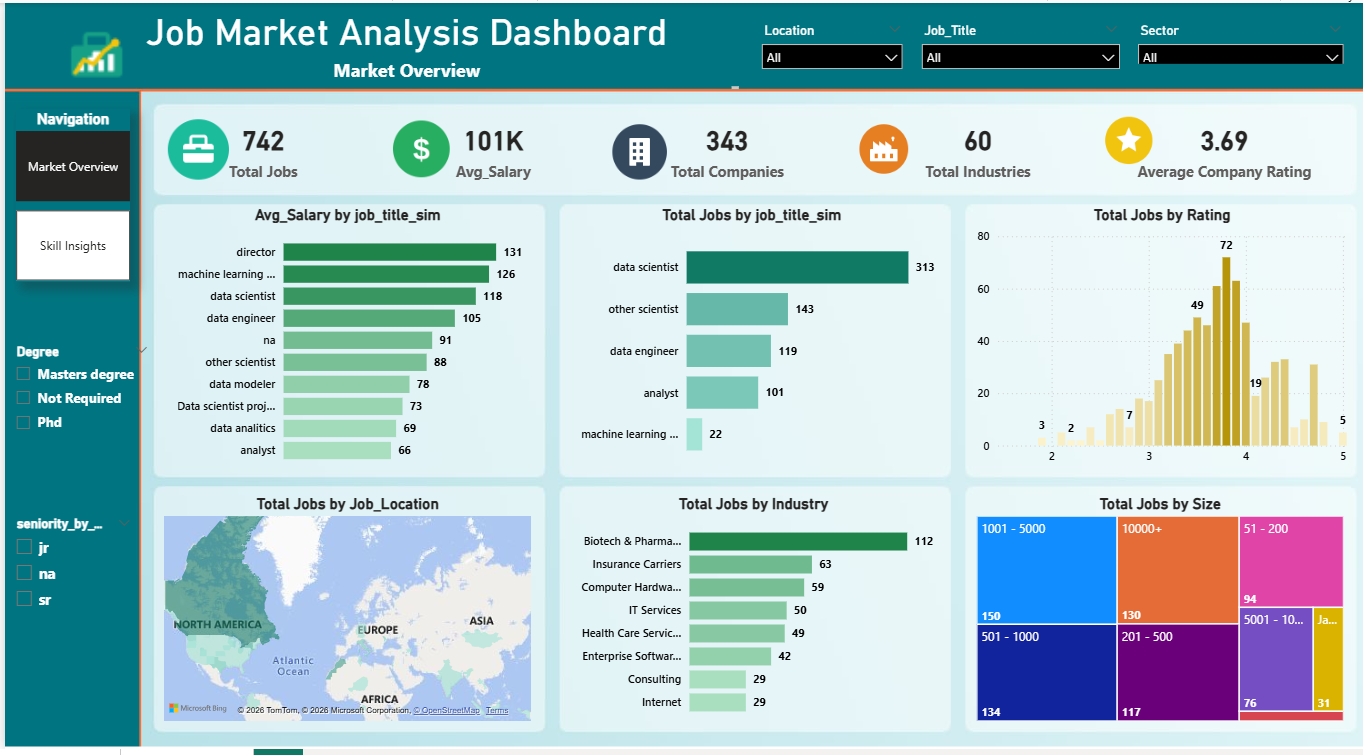

What the dashboard file says about the page in this screenshot:
{"tool":"powerbi","page":{"name":"Market Overview","canvas":[1500,820],"ordinal":0},"visuals":[{"type":"clusteredBarChart","fields":{"Category":["cleaned_Market.job_title_sim"],"Y":["cleaned_Market.Avg_Salary"]},"box":[171,223.2,413,294.1],"z":0},{"type":"clusteredBarChart","fields":{"Y":["cleaned_Market.Total Jobs"],"Category":["cleaned_Market.job_title_sim"]},"box":[611.1,223.2,419.2,294.1],"z":1000},{"type":"clusteredColumnChart","fields":{"Y":["cleaned_Market.Total Jobs"],"Category":["cleaned_Market.Rating"]},"box":[1063.7,223.2,417.1,294.1],"z":2000},{"type":"filledMap","fields":{"Category":["cleaned_Market.Job_Location"]},"box":[171,540.2,413,254.5],"z":3000},{"type":"barChart","fields":{"Category":["cleaned_Market.Industry"],"Y":["cleaned_Market.Total Jobs"]},"box":[615.3,540.2,415.1,254.5],"z":4000},{"type":"treemap","fields":{"Group":["cleaned_Market.Size"],"Values":["cleaned_Market.Total Jobs"]},"box":[1063.7,540.2,413,254.5],"z":5000},{"type":"slicer","fields":{"Values":["cleaned_Market.Job_Title"]},"box":[997,16.7,237.8,66.7],"z":6000},{"type":"slicer","fields":{"Values":["cleaned_Market.Sector"]},"box":[1234.7,16.7,246.1,50.1],"z":7000},{"type":"slicer","fields":{"Values":["cleaned_Market.Location"]},"box":[821.8,16.7,175.2,66.7],"z":8000},{"type":"slicer","fields":{"Values":["cleaned_Market.Degree"]},"box":[0,370.3,169.1,145.4],"z":9000},{"type":"textbox","title":"Job Market Analysis Dashboard","box":[71,8.5,740.5,91.3],"z":10000},{"type":"card","fields":{"Values":["cleaned_Market.Total Jobs"]},"box":[171,116.8,227.3,87.6],"z":11000},{"type":"card","fields":{"Values":["cleaned_Market.Avg_Salary"]},"box":[419.2,116.8,235.7,87.6],"z":12000},{"type":"card","fields":{"Values":["cleaned_Market.Total Companies"]},"box":[654.9,116.8,277.4,87.6],"z":13000},{"type":"card","fields":{"Values":["cleaned_Market.Total Industries"]},"box":[932.3,116.8,273.2,87.6],"z":14000},{"type":"card","fields":{"Values":["cleaned_Market.Average Company Rating"]},"box":[1205.5,116.8,271.1,87.6],"z":15000},{"type":"image","box":[137.7,127.2,150.2,66.7],"z":16000},{"type":"image","box":[398.4,129.3,118.9,62.6],"z":17000},{"type":"image","box":[644.5,133.5,106.4,60.5],"z":18000},{"type":"image","box":[909.4,133.5,112.6,54.2],"z":19000},{"type":"image","box":[1178.4,125.1,112.6,52.1],"z":20000},{"type":"image","box":[50.7,0,99.8,99.8],"z":21000},{"type":"slicer","fields":{"Values":["cleaned_Market.seniority_by_title"]},"box":[0,559,150.2,160.6],"z":22000},{"type":"pageNavigator","title":"Navigation","box":[12.5,116.8,125.1,189.8],"z":23000}]}

Visuals, with their boxes in screenshot pixels (x1, y1, x2, y2), scaled from the page's 1500x820 canvas onto the 1363x755 screenshot:
clusteredBarChart - cleaned_Market.job_title_sim x cleaned_Market.Avg_Salary: bbox(155, 206, 531, 476)
clusteredBarChart - cleaned_Market.Total Jobs x cleaned_Market.job_title_sim: bbox(555, 206, 936, 476)
clusteredColumnChart - cleaned_Market.Total Jobs x cleaned_Market.Rating: bbox(967, 206, 1346, 476)
filledMap - cleaned_Market.Job_Location: bbox(155, 497, 531, 732)
barChart - cleaned_Market.Industry x cleaned_Market.Total Jobs: bbox(559, 497, 936, 732)
treemap - cleaned_Market.Size x cleaned_Market.Total Jobs: bbox(967, 497, 1342, 732)
slicer - cleaned_Market.Job_Title: bbox(906, 15, 1122, 77)
slicer - cleaned_Market.Sector: bbox(1122, 15, 1346, 62)
slicer - cleaned_Market.Location: bbox(747, 15, 906, 77)
slicer - cleaned_Market.Degree: bbox(0, 341, 154, 475)
"Job Market Analysis Dashboard" textbox: bbox(65, 8, 737, 92)
card - cleaned_Market.Total Jobs: bbox(155, 108, 362, 188)
card - cleaned_Market.Avg_Salary: bbox(381, 108, 595, 188)
card - cleaned_Market.Total Companies: bbox(595, 108, 847, 188)
card - cleaned_Market.Total Industries: bbox(847, 108, 1095, 188)
card - cleaned_Market.Average Company Rating: bbox(1095, 108, 1342, 188)
image: bbox(125, 117, 262, 179)
image: bbox(362, 119, 470, 177)
image: bbox(586, 123, 682, 179)
image: bbox(826, 123, 929, 173)
image: bbox(1071, 115, 1173, 163)
image: bbox(46, 0, 137, 92)
slicer - cleaned_Market.seniority_by_title: bbox(0, 515, 136, 663)
"Navigation" pageNavigator: bbox(11, 108, 125, 282)
